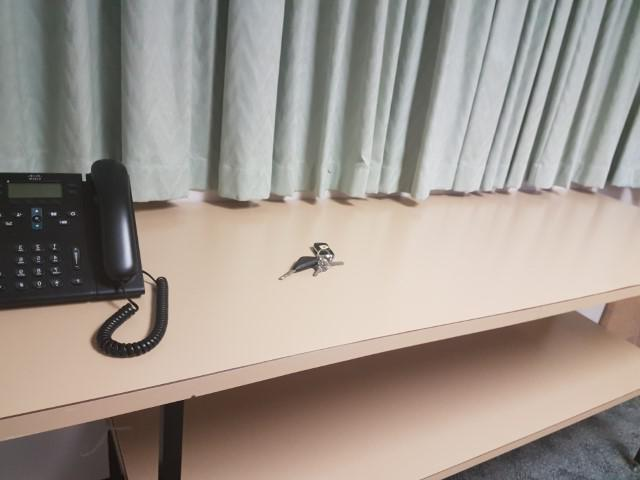key: (280, 256, 320, 281)
